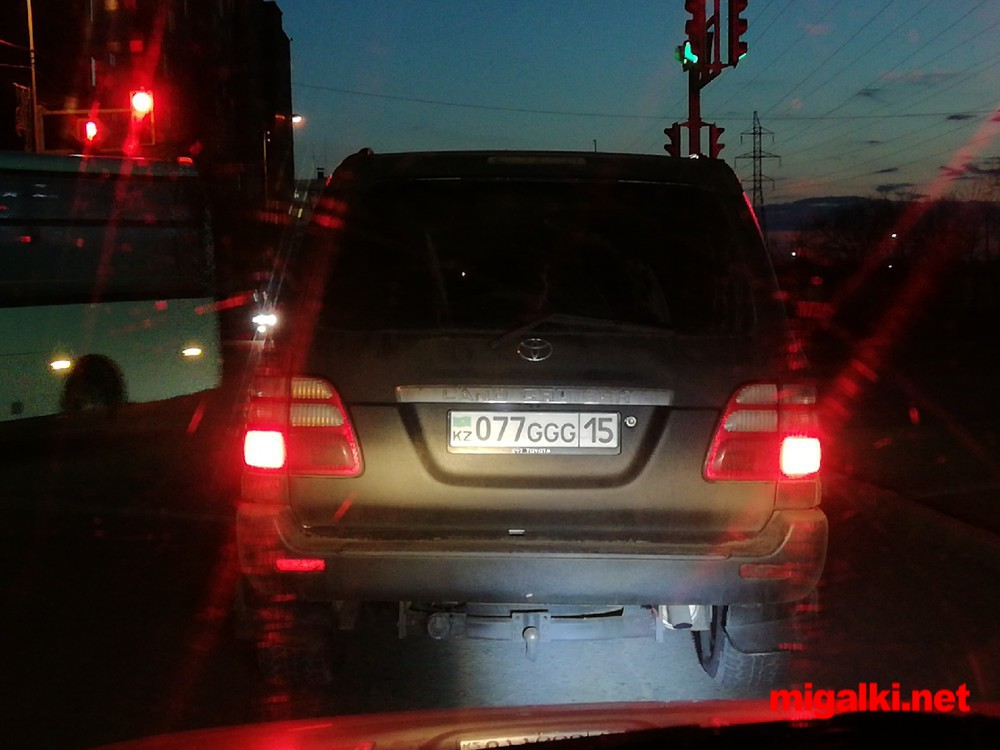license_plate: (448, 409, 627, 454)
